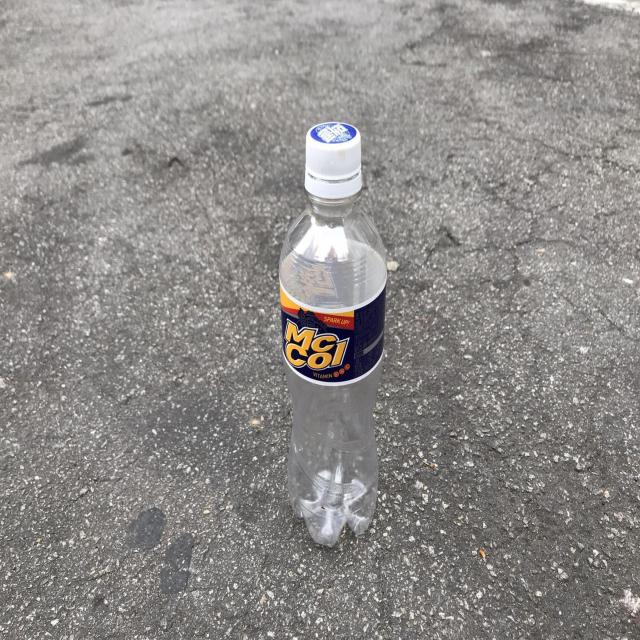plastic: (279, 120, 387, 546)
